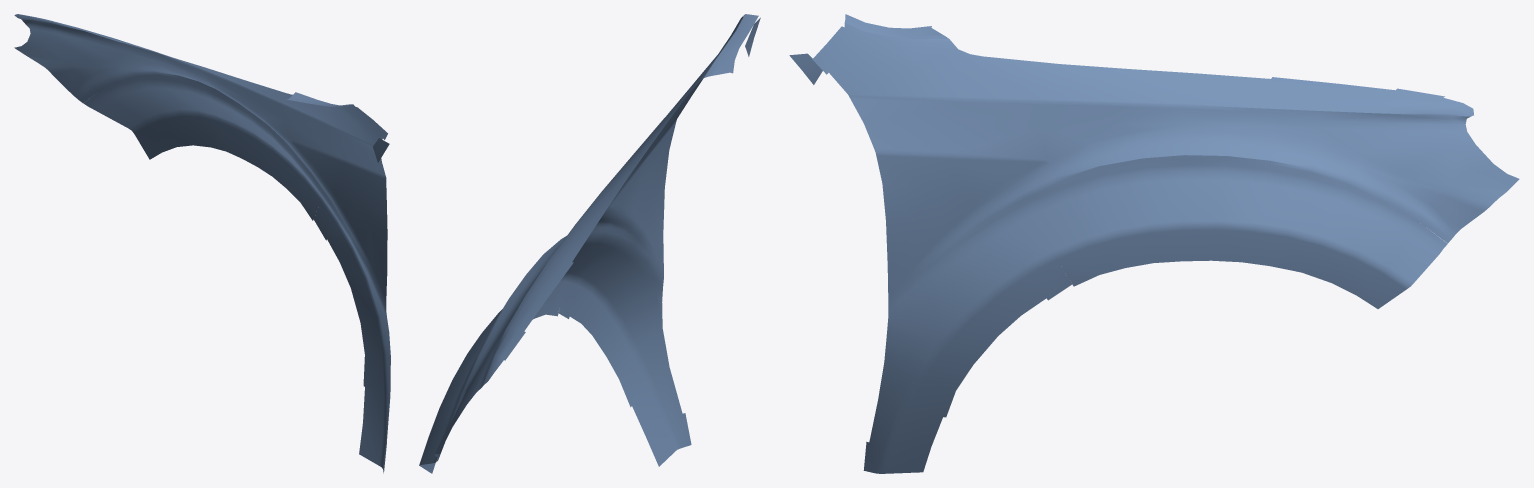
Rendered from fender 2.fbx.
The picture shows the model from 3 angles, left to right: view 1: azimuth 30°, elevation 25°; view 2: azimuth 150°, elevation 25°; view 3: azimuth 270°, elevation 25°; orthographic projection. The views are drawn at different scales.
Parts seen in each view (by area): view 1: chassis_001.012; view 2: chassis_001.012; view 3: chassis_001.012.
Boxes of the visible parts, box(x1,y1,x2,y2) form: chassis_001.012: box(14, 14, 390, 473); chassis_001.012: box(419, 14, 760, 473); chassis_001.012: box(789, 14, 1519, 473).
Size of the model in its own units: 34.57 by 101 by 156.
